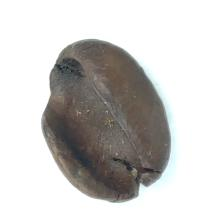NG: (51, 116, 158, 199), (39, 53, 113, 131)
